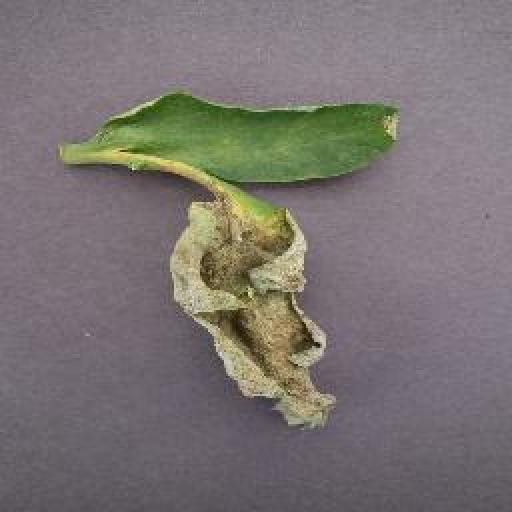disease_tomato: (167, 192, 340, 435)
